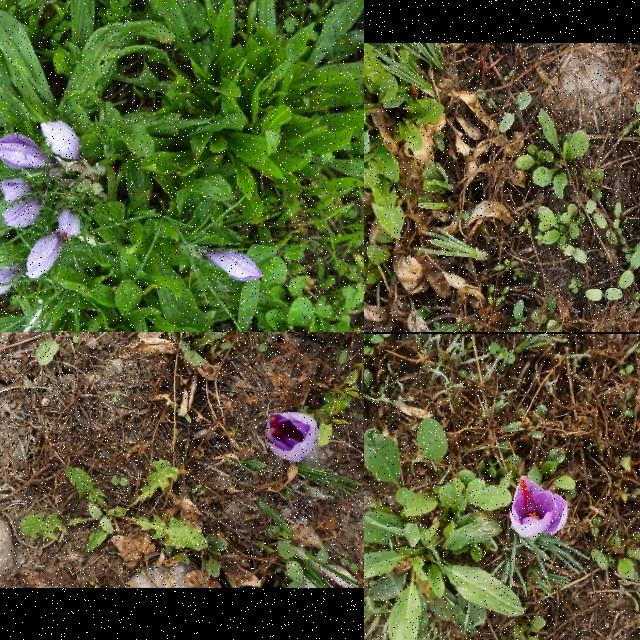flower: (510, 478, 568, 540), (264, 412, 318, 463), (208, 250, 266, 282), (0, 133, 46, 171), (41, 122, 84, 160), (26, 234, 60, 280), (2, 195, 42, 229), (0, 176, 31, 203), (58, 208, 82, 242), (0, 266, 18, 301)
